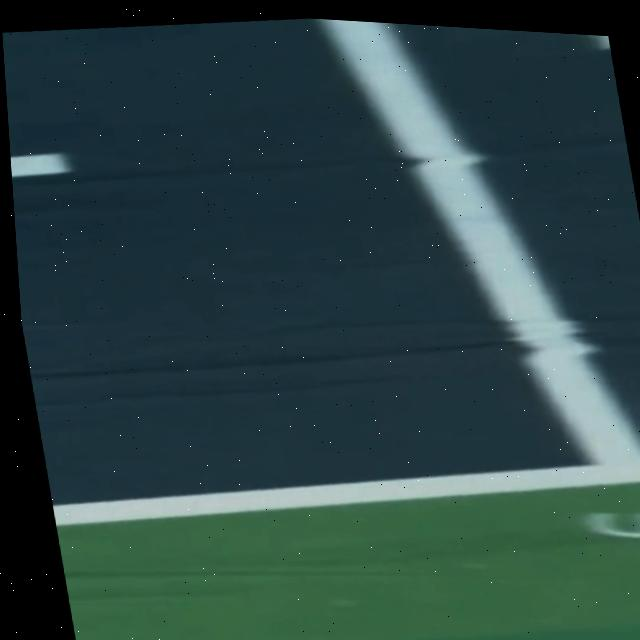center: (10, 152, 69, 176), (592, 35, 610, 49)
right: (51, 461, 640, 525)
